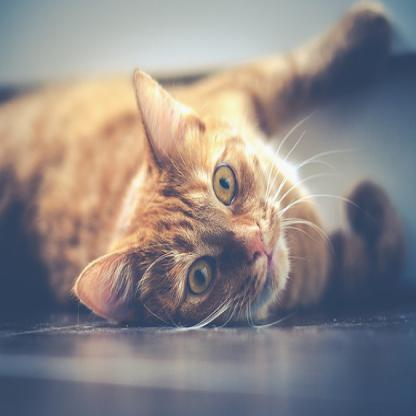cat: (0, 2, 409, 330)
